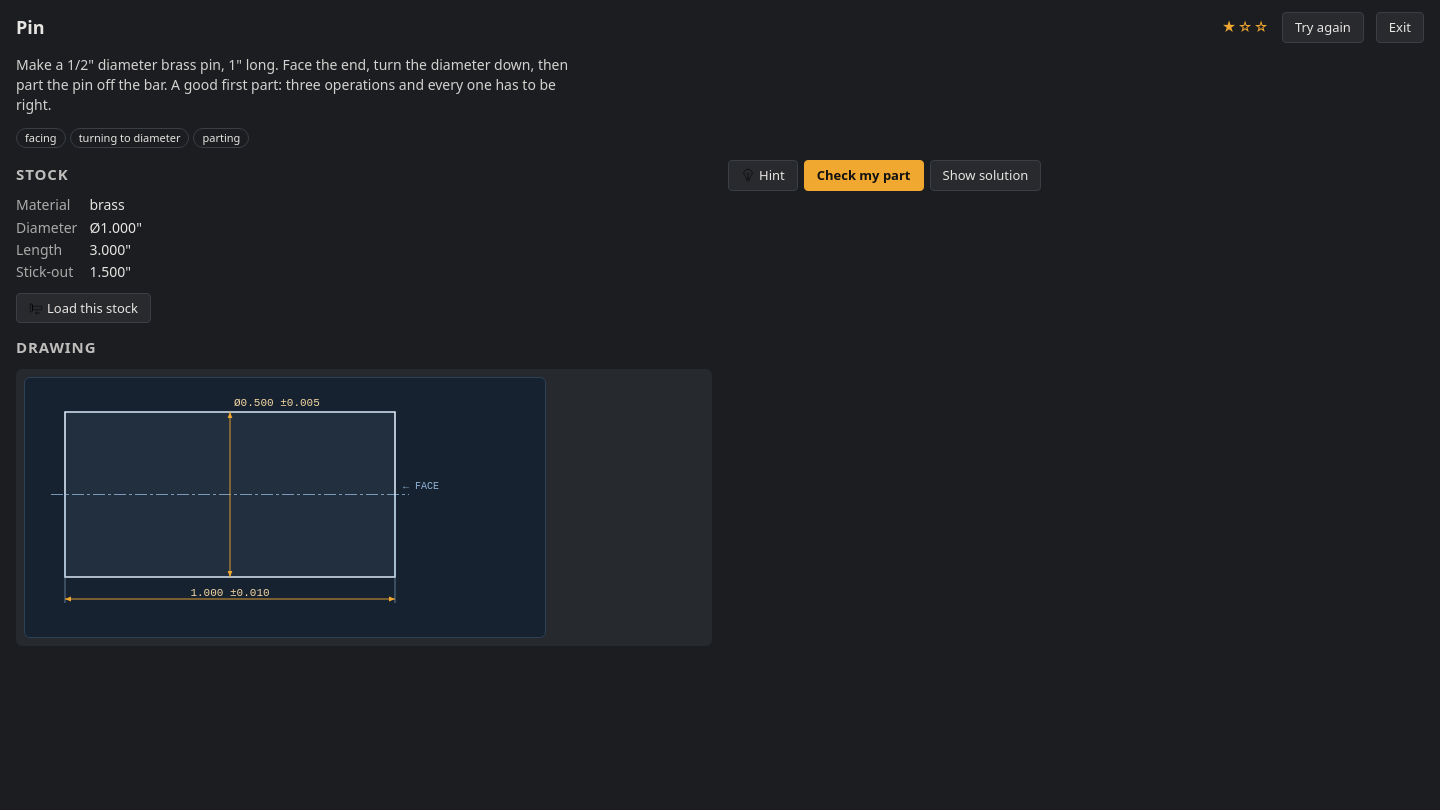
Test: ChallengePanel › loads the challenge stock
This screenshot has width=1440, height=810.
Click the button with test id "challenge-load-stock" at (84, 308), box [16, 293, 151, 323]
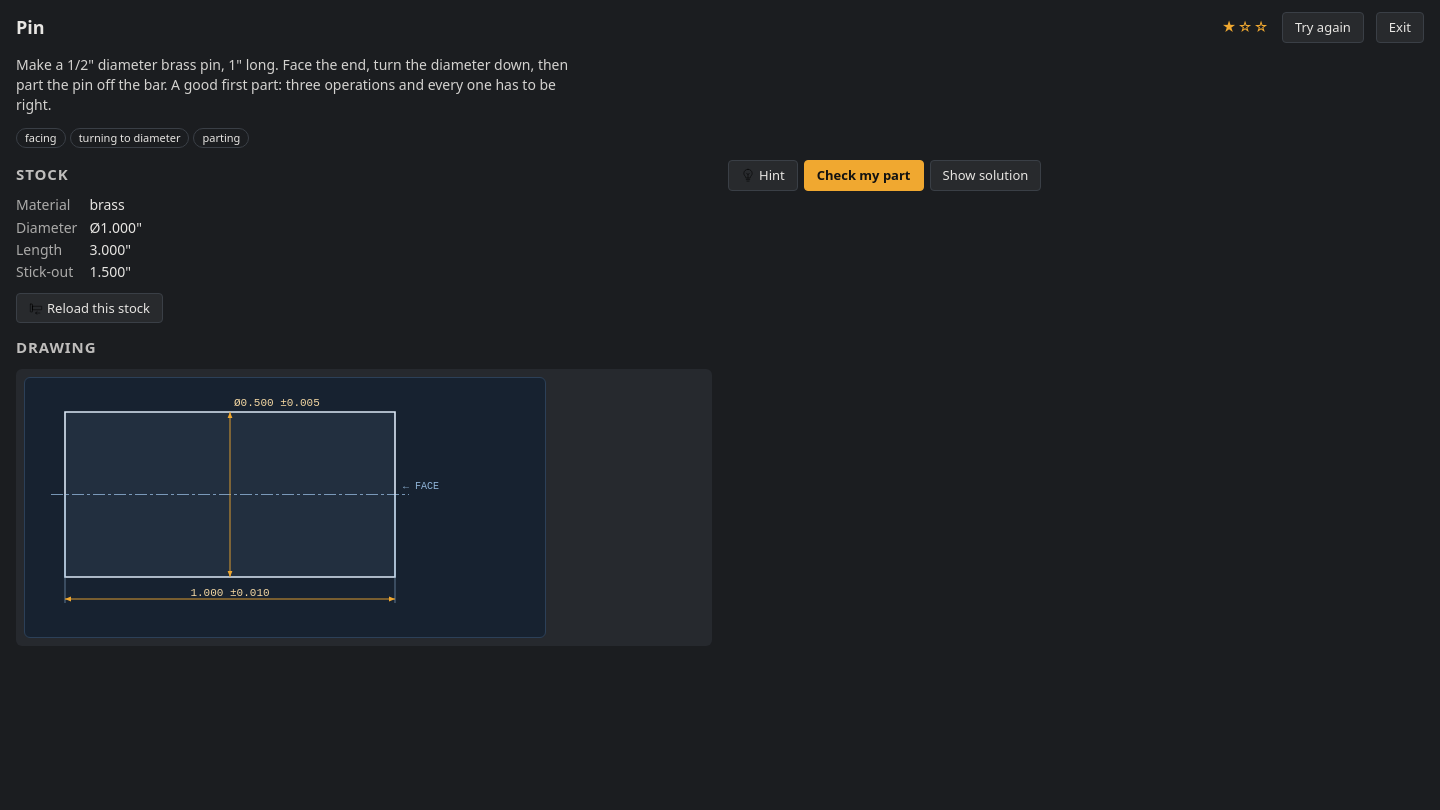
expect the text "brass" is shown: met, box [89, 195, 125, 214]
expect the button with test id "challenge-load-stock" reads "Reload this stock": met, box [16, 293, 163, 323]
